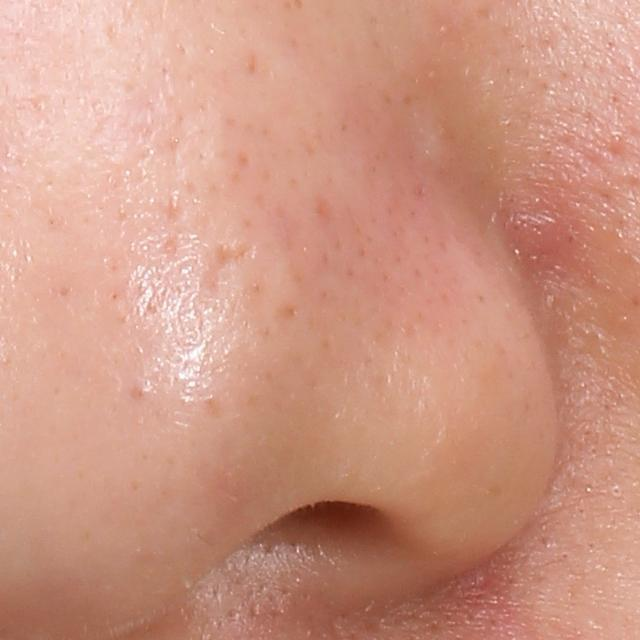atrophic_scar: (201, 235, 259, 298)
papule: (507, 203, 559, 260)
